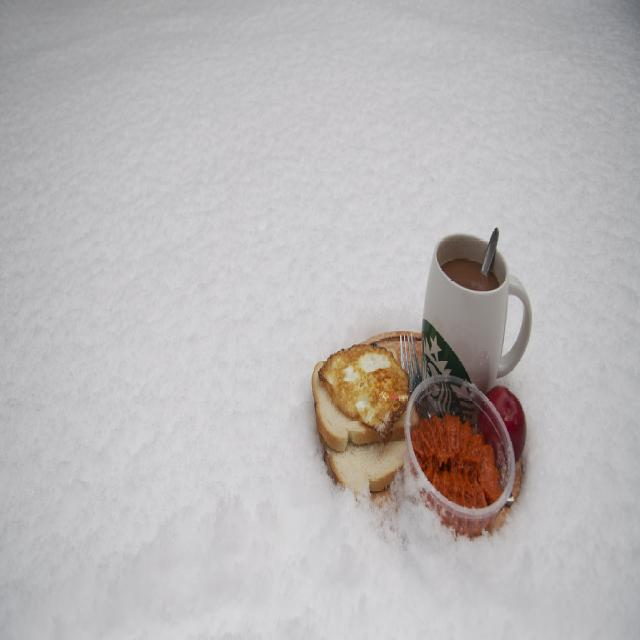Coffee: (440, 259, 500, 295)
Tea: (441, 260, 499, 297)
